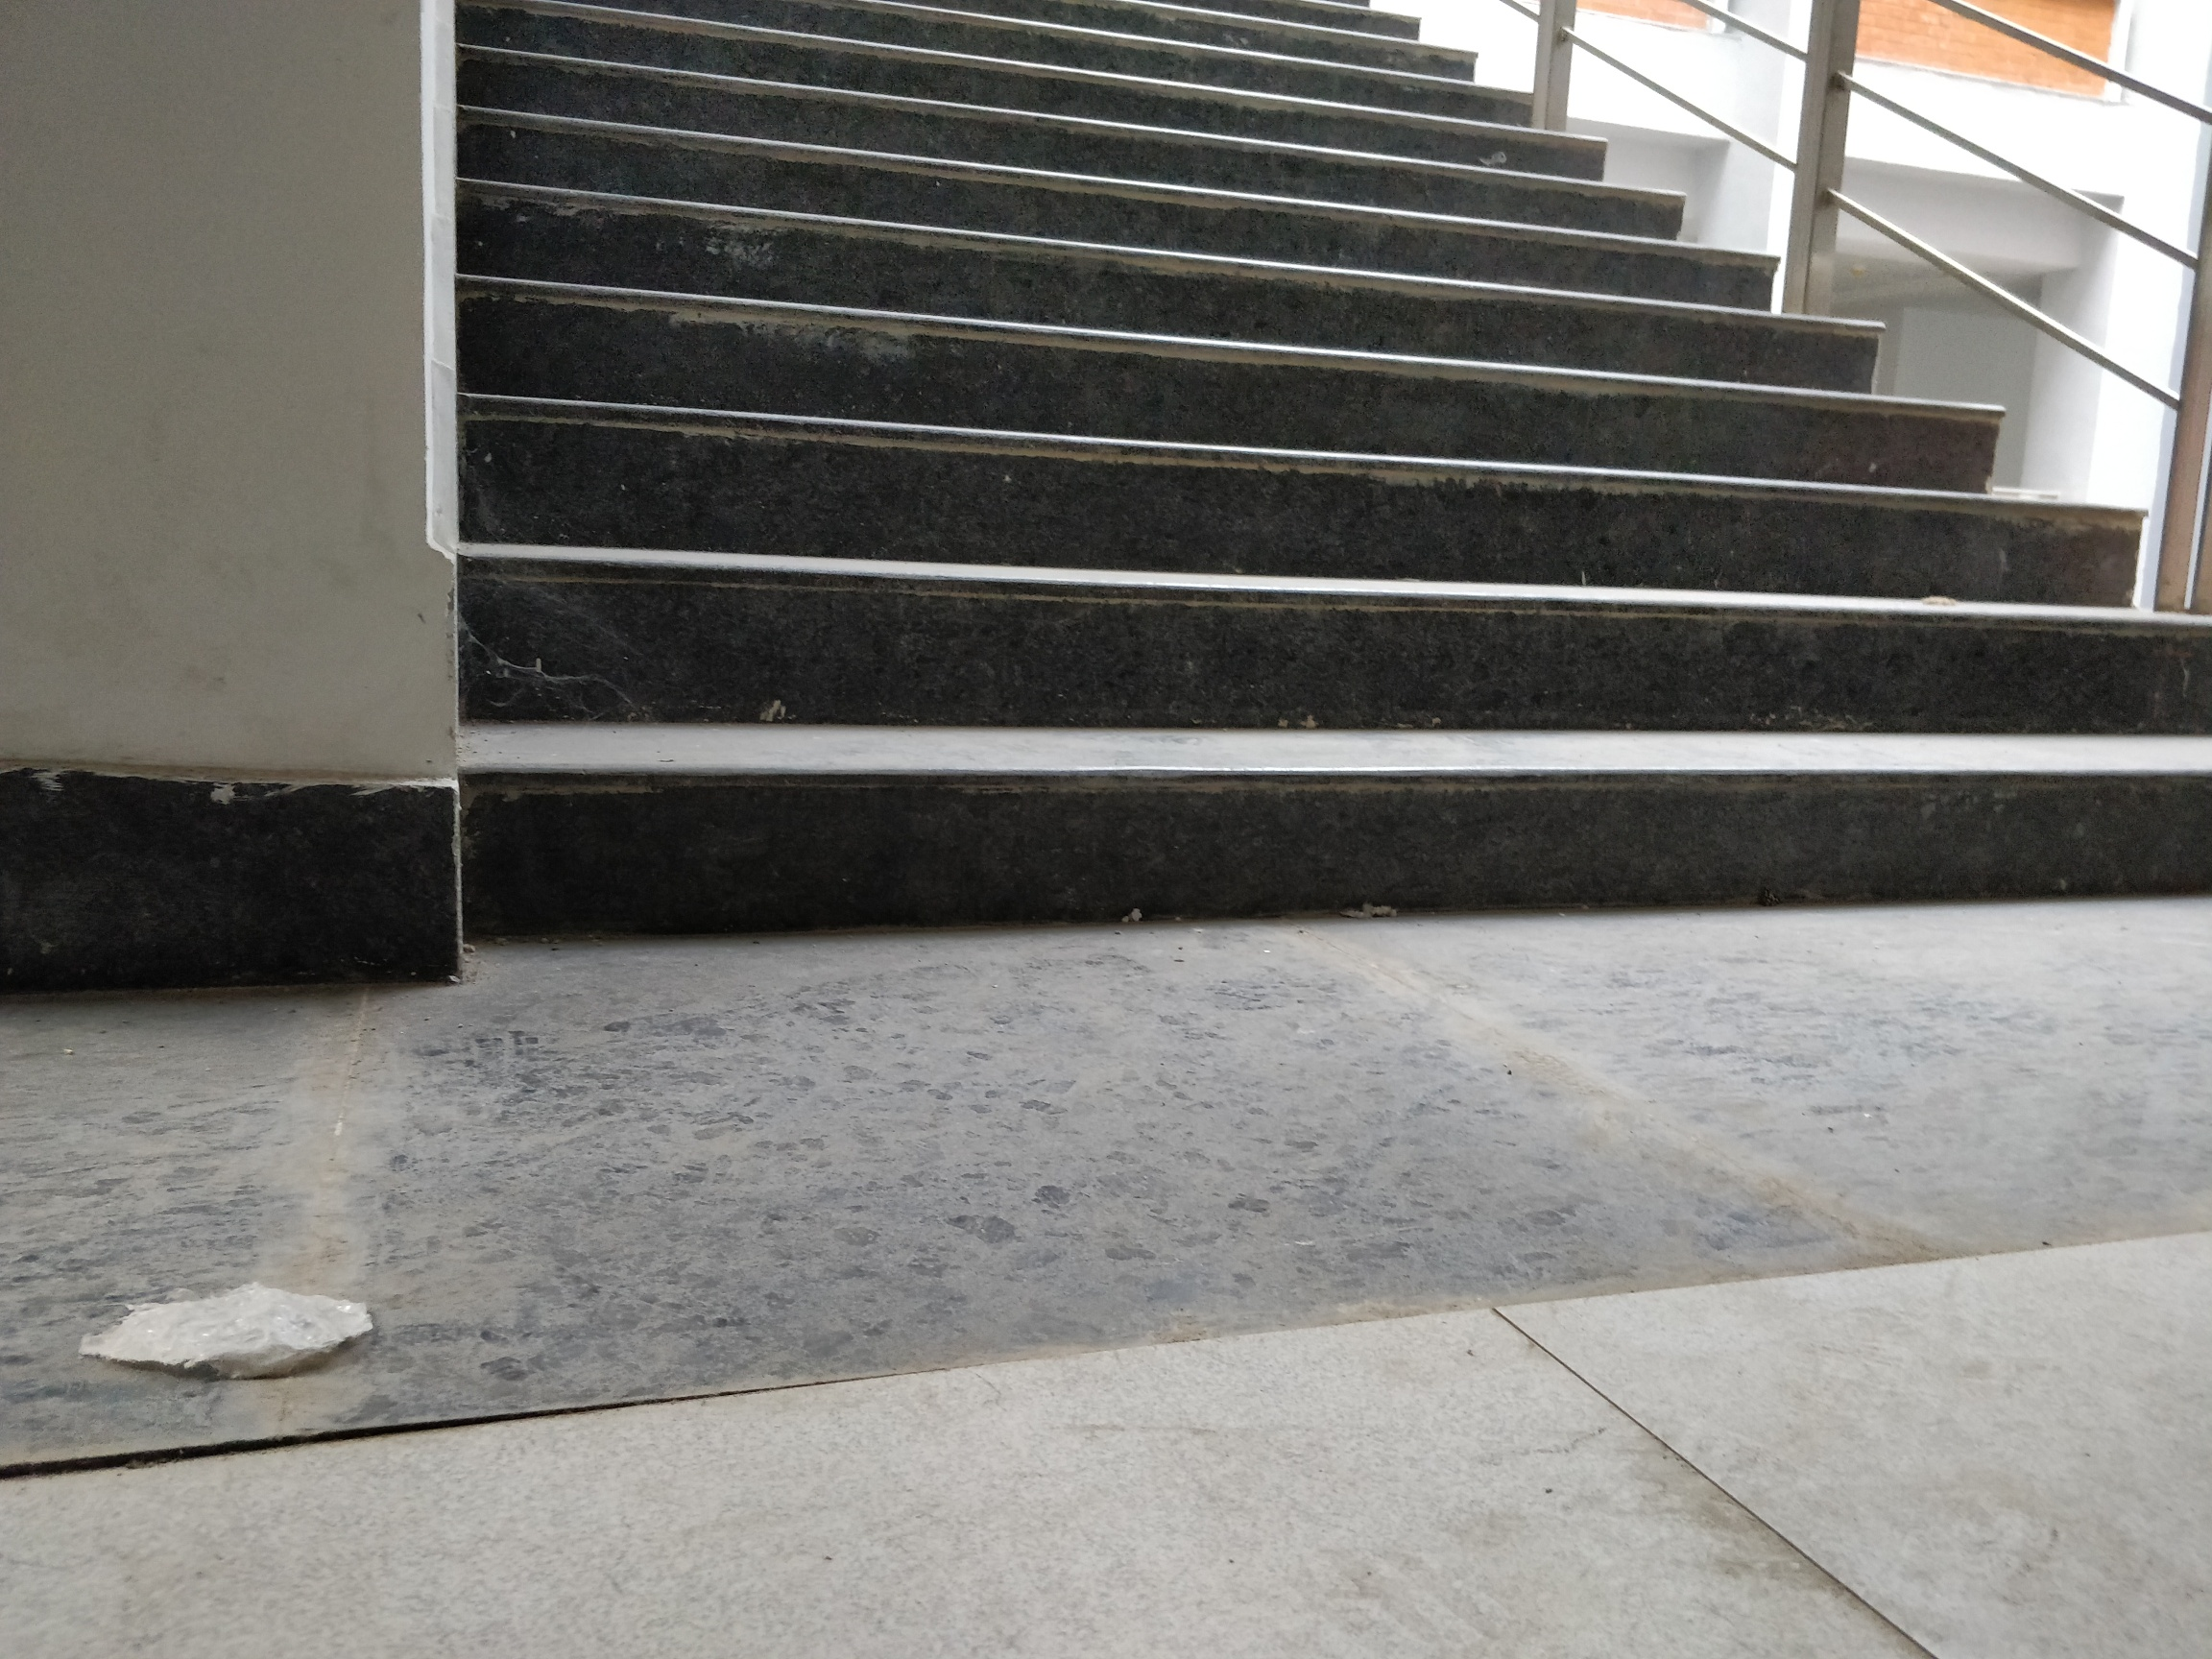stairs_up: (467, 28, 2167, 938)
